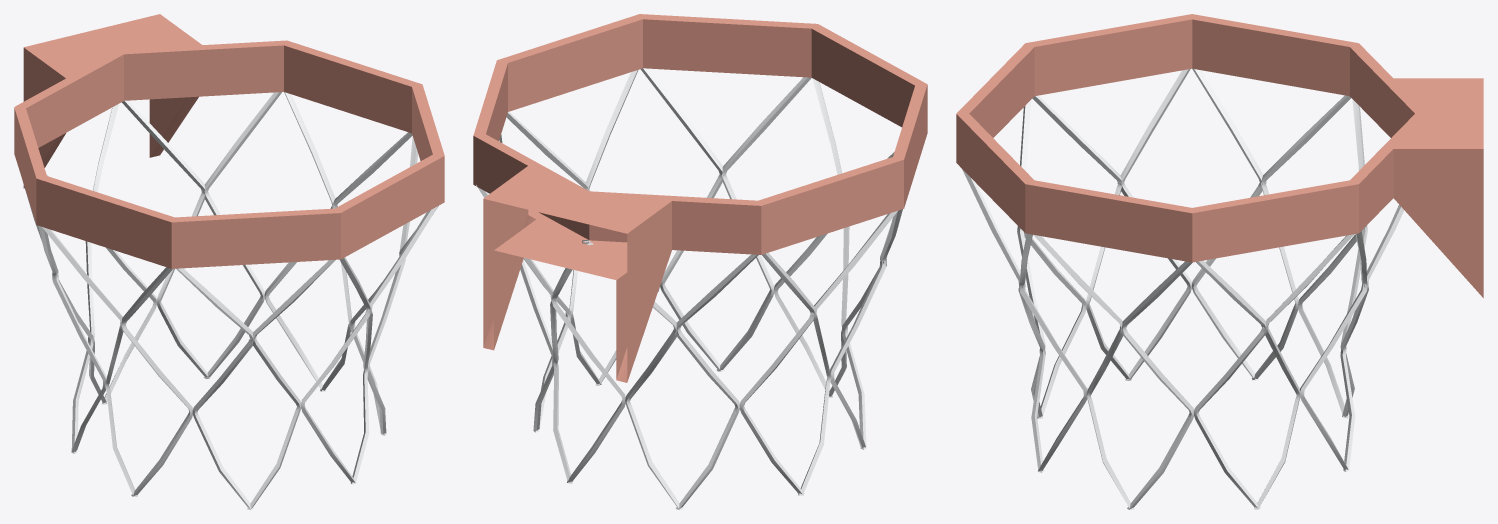
File: Basketball.fbx
The picture shows the model from 3 angles, left to right: view 1: azimuth 30°, elevation 25°; view 2: azimuth 150°, elevation 25°; view 3: azimuth 270°, elevation 25°; orthographic projection. The views are drawn at different scales.
Parts seen in each view (by area): view 1: basketball_yard1; view 2: basketball_yard1; view 3: basketball_yard1.
Part boxes in pixels (x1,y1,x2,y2): basketball_yard1: (14,14,444,509); basketball_yard1: (473,14,927,509); basketball_yard1: (956,14,1483,509).
Size of the model in its own units: 0.7587 by 0.5862 by 0.8481.
